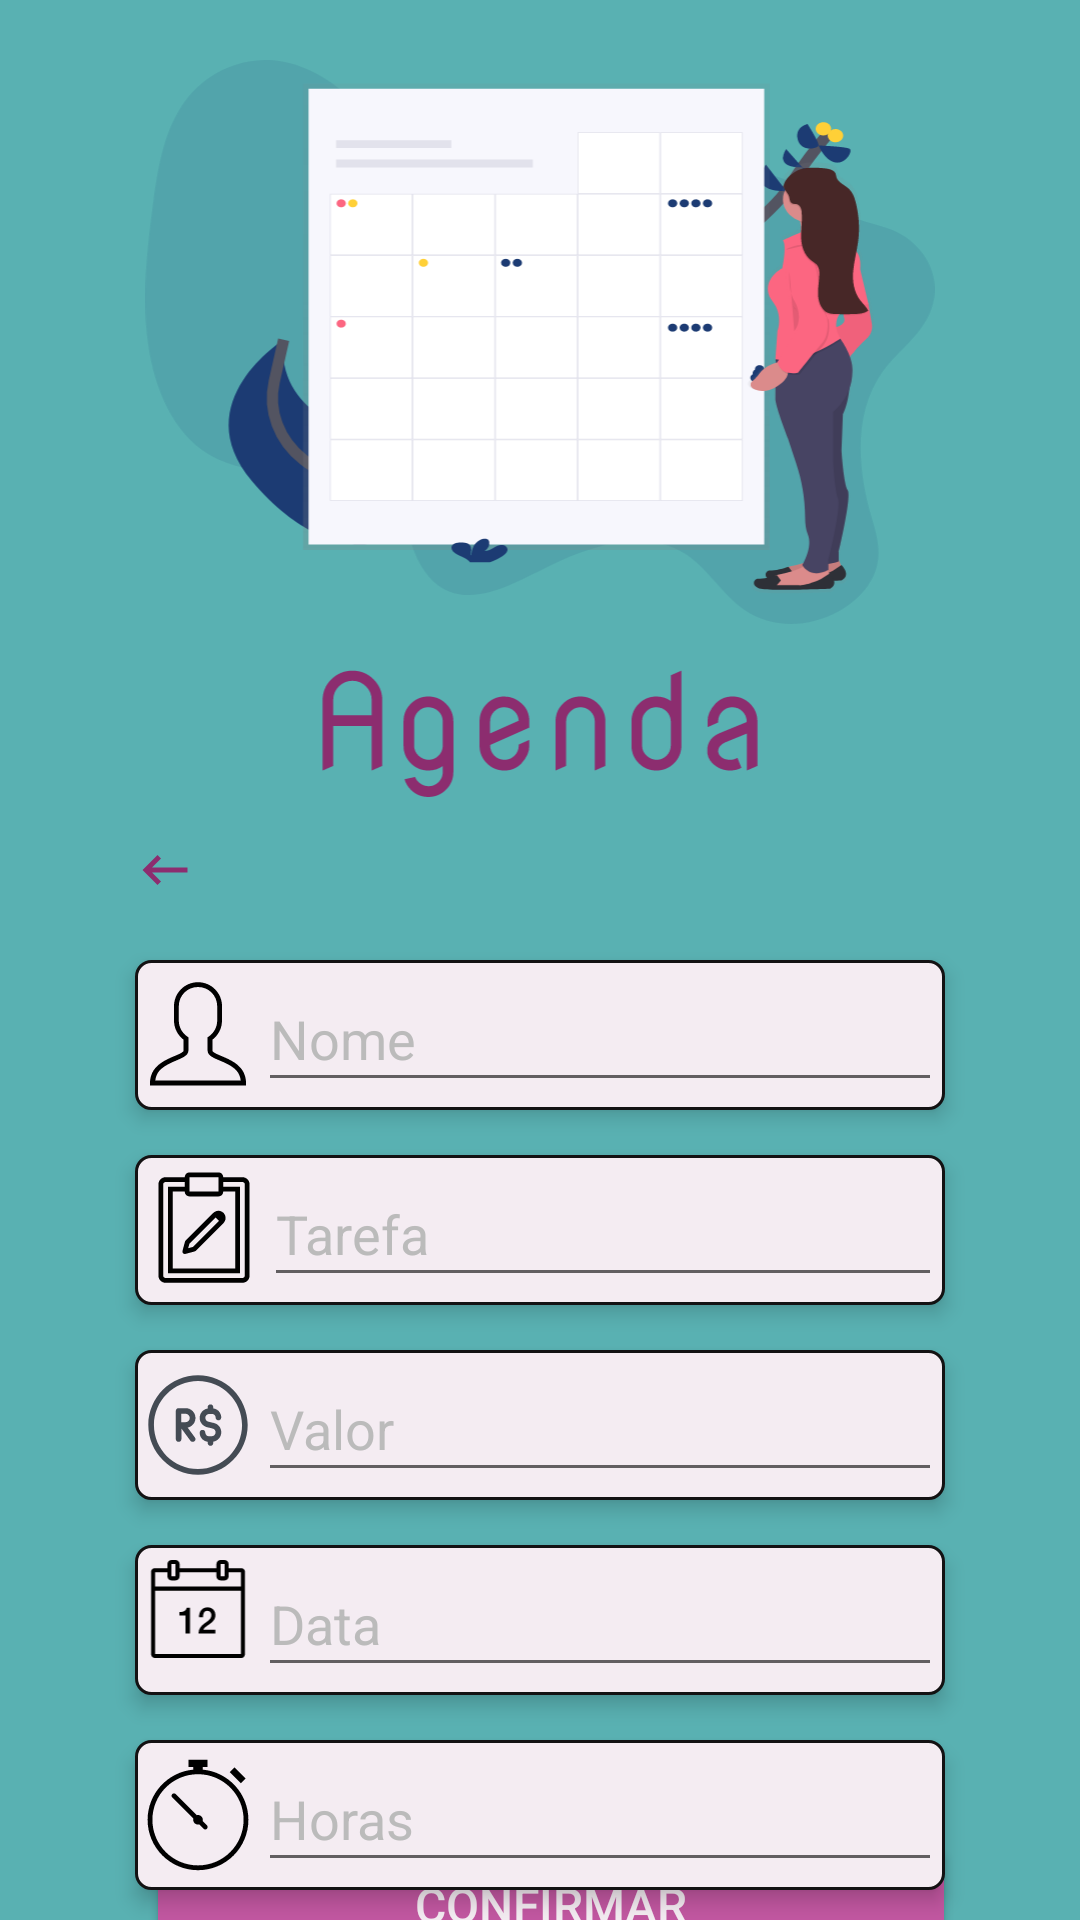

Locate icon controls on the screen. Image size 1080x1920, boxes as (x1, y1, x2, y2).
back: (143, 855, 188, 885)
calendar: (150, 1560, 246, 1658)
person: (150, 982, 246, 1086)
real: (148, 1375, 248, 1475)
time: (147, 1759, 249, 1871)
